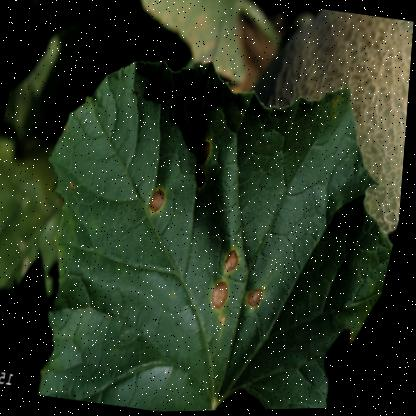AlternariaBrassicicola: (192, 135, 220, 193), (147, 185, 171, 217), (212, 280, 235, 312), (224, 247, 246, 277), (249, 284, 270, 313)
